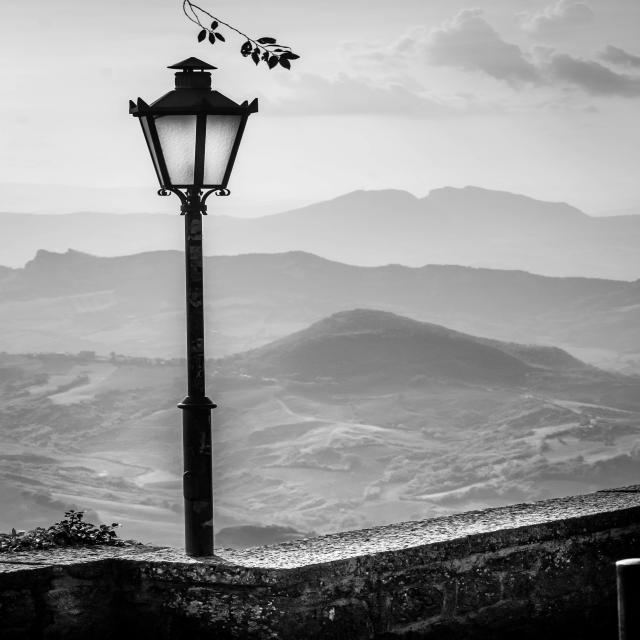pole: (180, 214, 222, 555)
